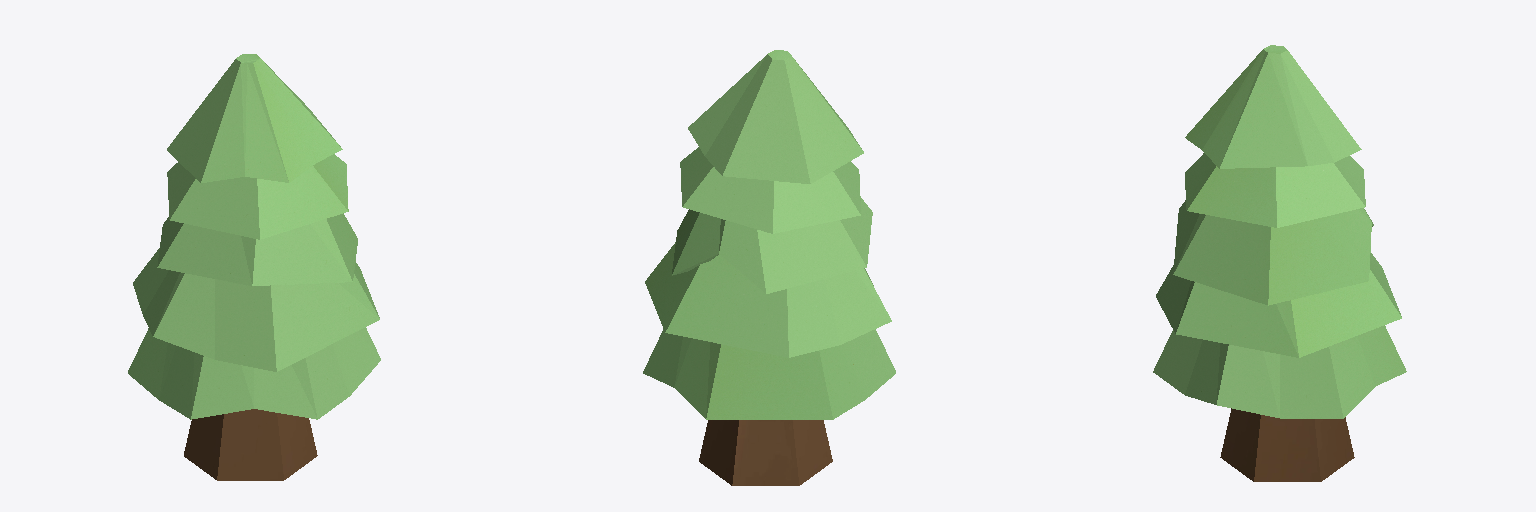
The picture shows the model from 3 angles: view 1: azimuth 30°, elevation 25°; view 2: azimuth 150°, elevation 25°; view 3: azimuth 270°, elevation 25°; orthographic projection.
Visible parts, largest first — view 1: Cylinder.002, Cylinder.005, Cylinder.001, Cylinder.003, Cylinder.004, Cylinder; view 2: Cylinder.002, Cylinder.001, Cylinder.005, Cylinder.003, Cylinder.004, Cylinder; view 3: Cylinder.001, Cylinder.003, Cylinder.005, Cylinder.002, Cylinder.004, Cylinder.
Boxes of the visible parts, box(x1,y1,x2,y2) form: Cylinder.002: box(133, 248, 379, 371); Cylinder.005: box(167, 54, 342, 182); Cylinder.001: box(128, 327, 380, 419); Cylinder.003: box(157, 213, 357, 285); Cylinder.004: box(167, 154, 348, 239); Cylinder: box(184, 409, 317, 480); Cylinder.002: box(645, 242, 891, 357); Cylinder.001: box(643, 329, 895, 419); Cylinder.005: box(688, 50, 863, 183); Cylinder.003: box(672, 196, 872, 293); Cylinder.004: box(680, 147, 860, 233); Cylinder: box(699, 420, 832, 485); Cylinder.001: box(1153, 325, 1406, 418); Cylinder.003: box(1173, 200, 1373, 305); Cylinder.005: box(1185, 45, 1361, 168); Cylinder.002: box(1156, 253, 1401, 357); Cylinder.004: box(1185, 153, 1365, 227); Cylinder: box(1220, 408, 1354, 481).
Bounding box in the file's own units: 3.91 × 6.65 × 3.79.
Materials: 2 (2 with a texture image).